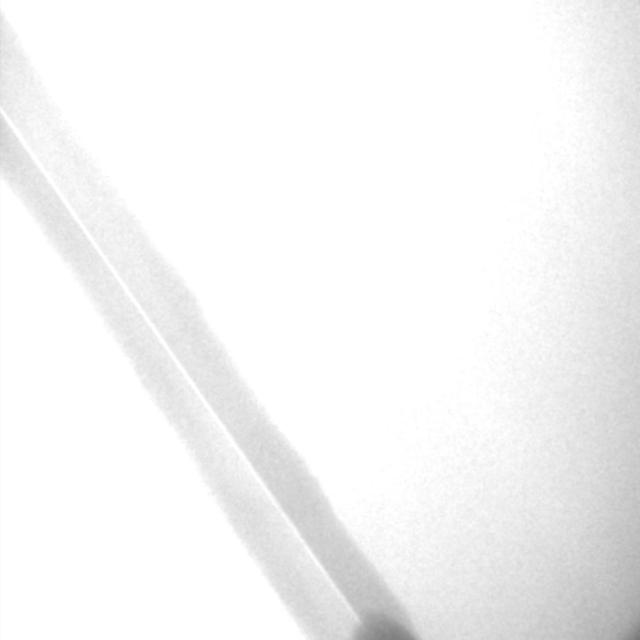broken arc: (2, 108, 362, 624)
